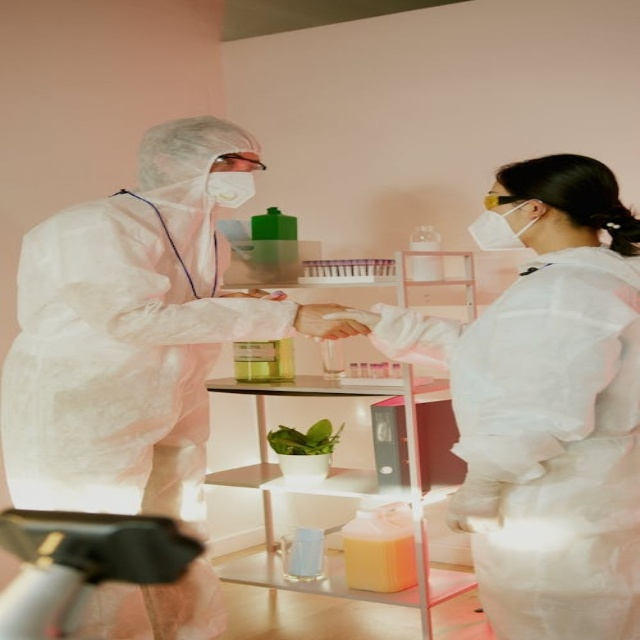Gafas: (217, 153, 267, 171), (484, 193, 534, 211)
Guantes: (340, 302, 458, 358), (444, 475, 507, 532)
Mascara: (467, 200, 539, 249), (203, 169, 258, 209)
Sin_guantes: (291, 302, 373, 340)
